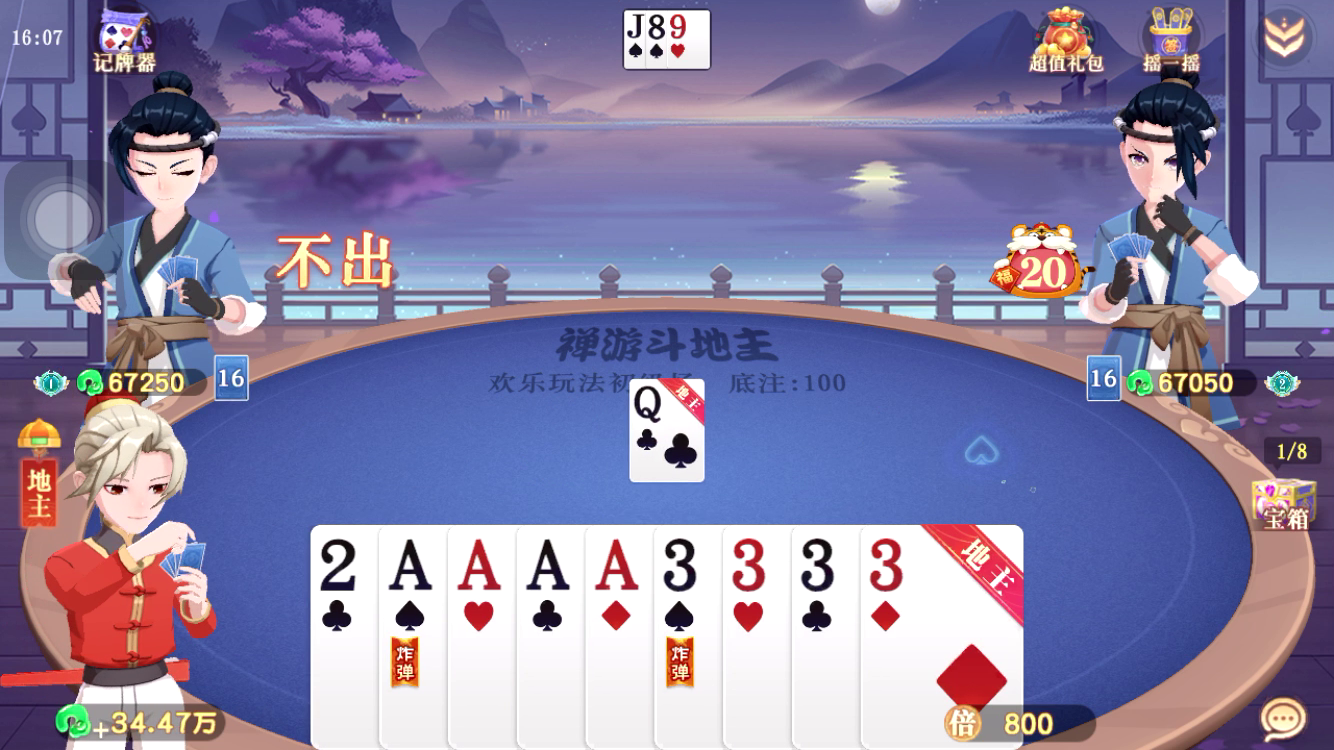A: (382, 534, 440, 601), (522, 531, 578, 598), (452, 531, 509, 596), (589, 534, 644, 597)
J: (623, 10, 645, 41)
Q: (631, 382, 666, 428)
eight: (646, 9, 669, 41)
nine: (665, 8, 694, 40)
three: (793, 530, 850, 598), (862, 532, 914, 596), (657, 528, 707, 592), (726, 533, 776, 596)
two: (314, 532, 366, 597)
